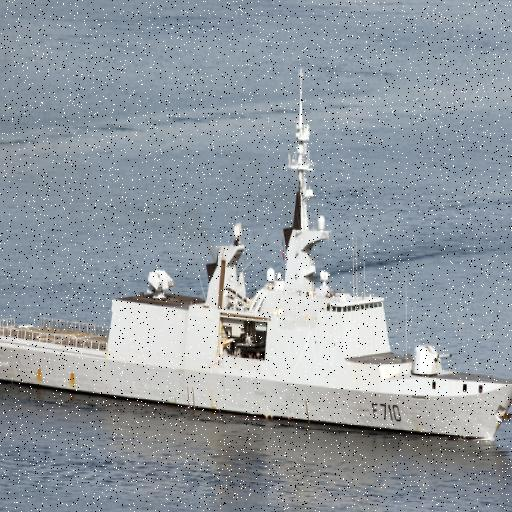Fragata: (1, 41, 512, 452)
